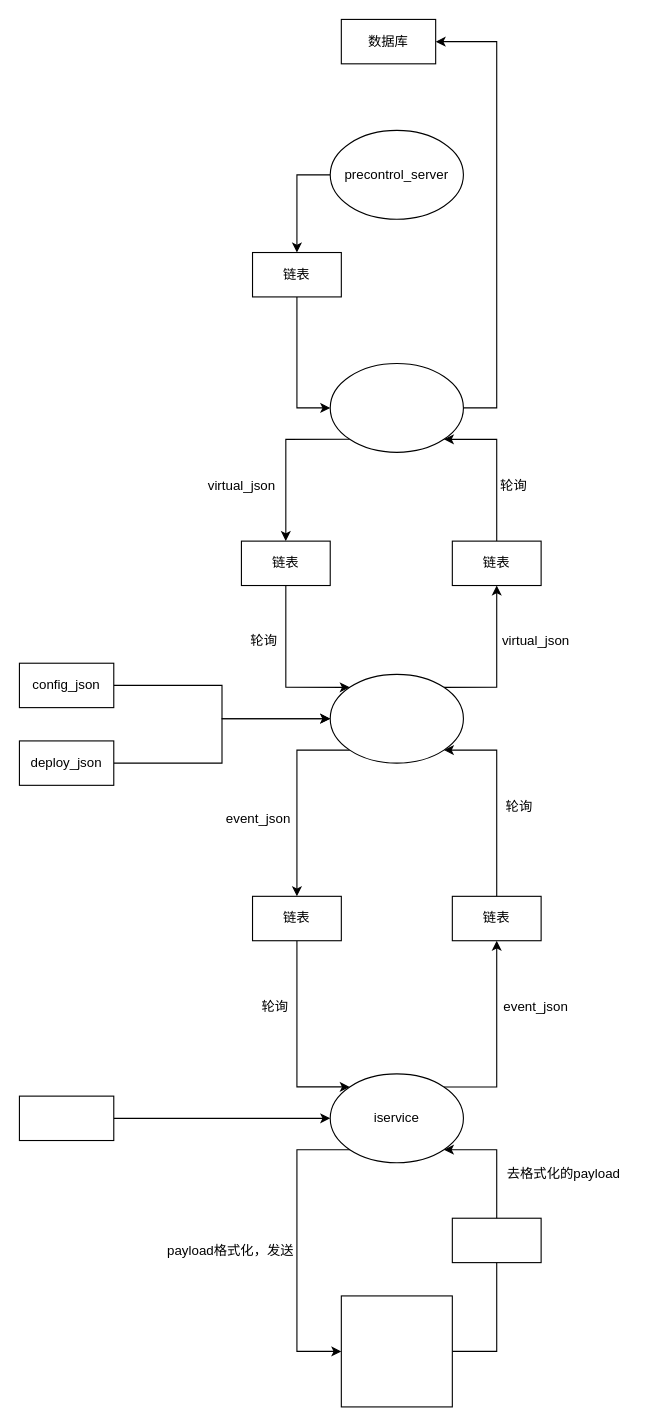
This 649x1426 diagram has some shape labels left out. Here are the shapes that lost their labels. From the top down, the box of each, then its label:
(329, 362, 463, 452): control_server
(329, 673, 463, 763): protocol_server
(18, 1095, 114, 1141): format_json
(451, 1217, 541, 1263): 循环queue
(340, 1295, 452, 1407): uart0 can rs485 gpio
